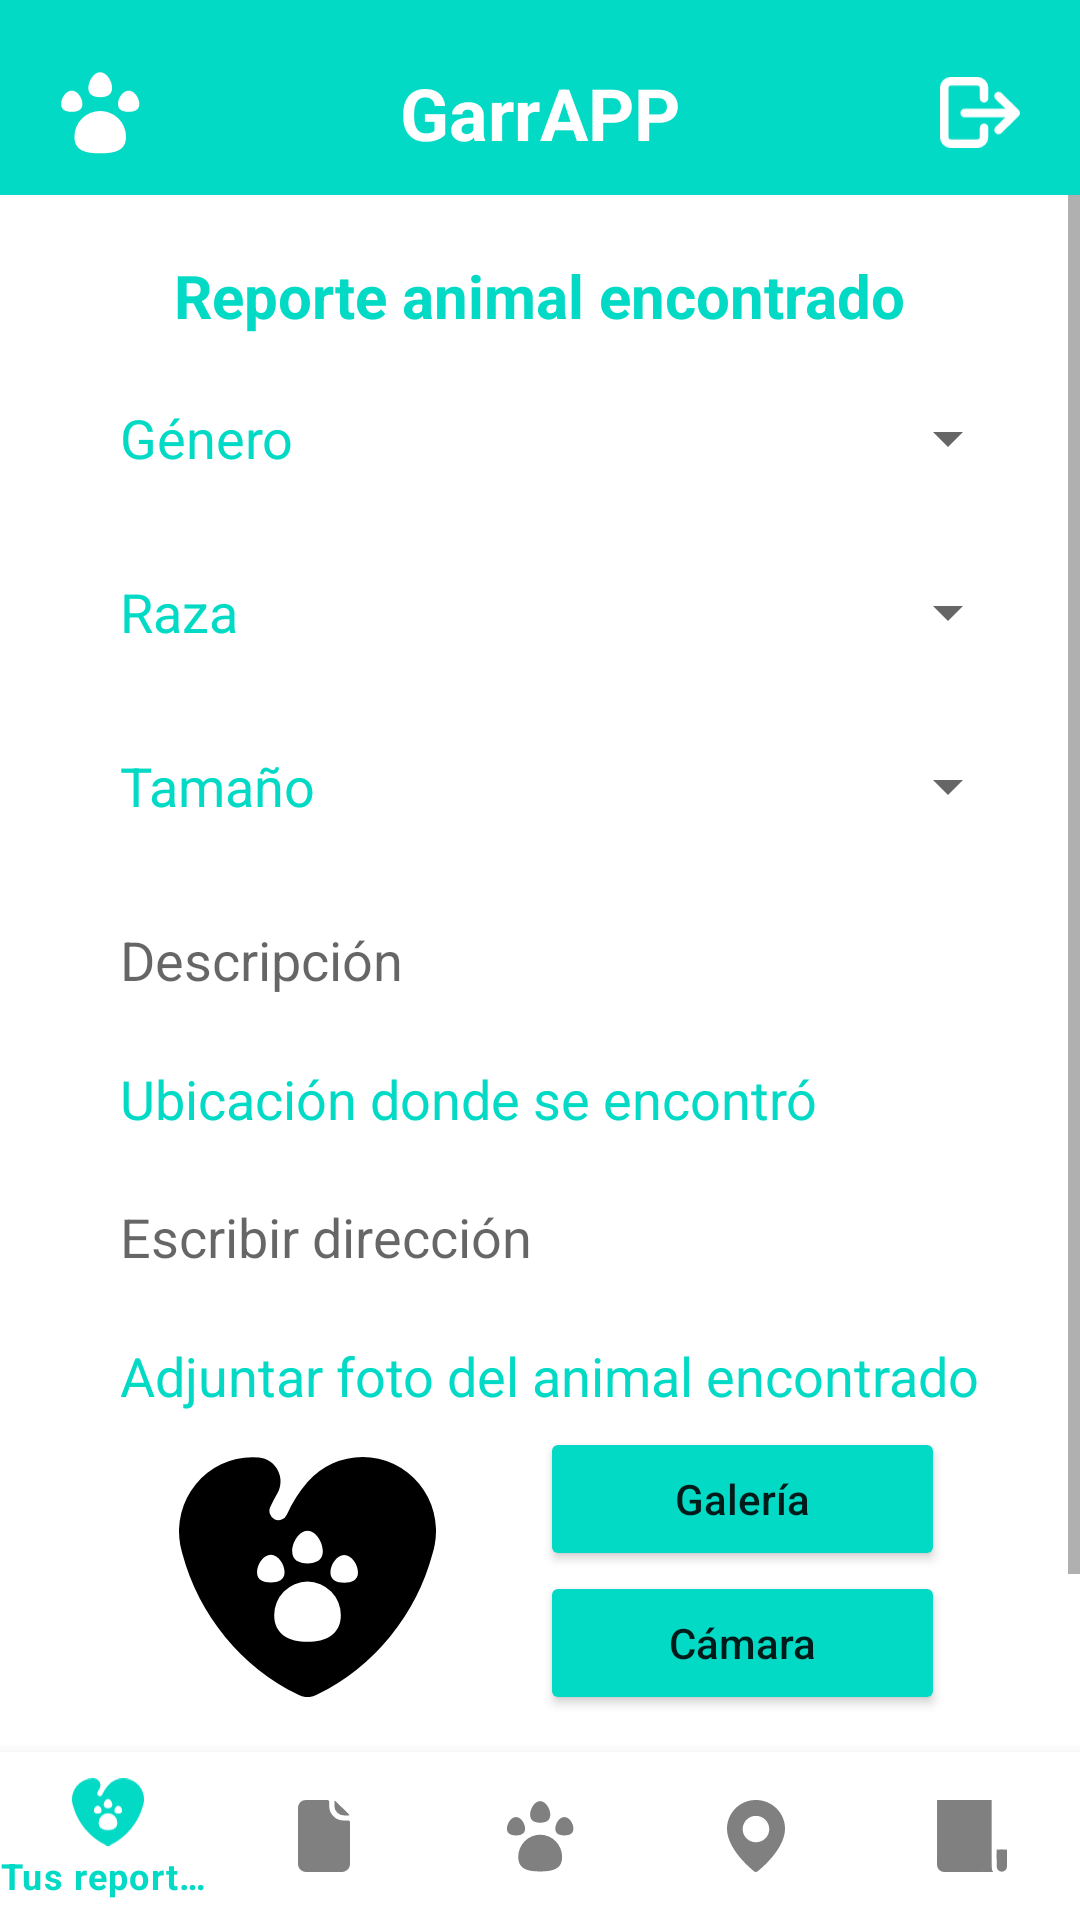

Screen size 1080px x 1920px. Icon name, then its box in pixels as (x1, y1, x2, y2):
heart: (179, 1457, 436, 1697)
